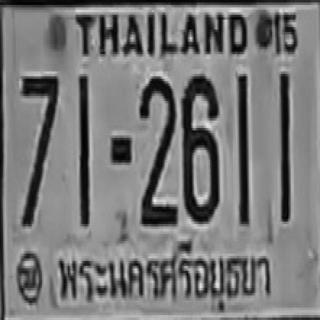N01: (77, 74, 89, 224), (236, 73, 248, 223), (279, 71, 290, 222)
N02: (138, 74, 176, 224)
N06: (181, 73, 217, 220)
N07: (20, 74, 58, 224)
P03: (53, 238, 274, 313)
